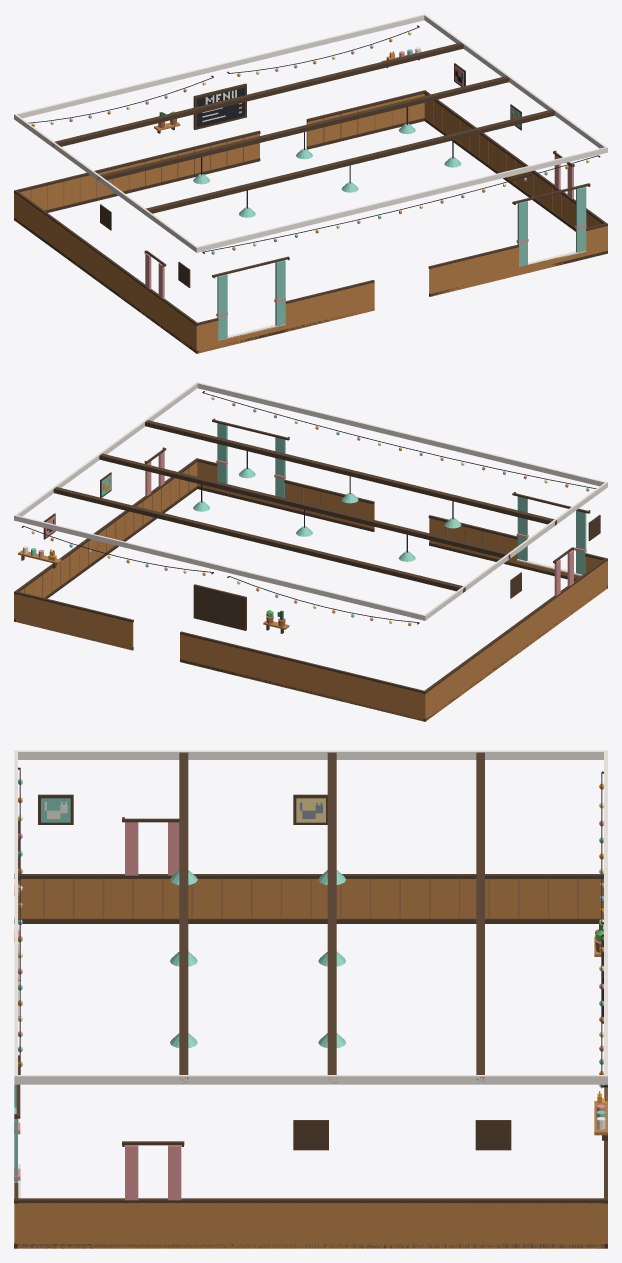
The model's file is CatCafe_Plot_Interior_52x40.glb.
3 renders of one model, top to bottom at view 1: azimuth 30°, elevation 25°; view 2: azimuth 150°, elevation 25°; view 3: azimuth 270°, elevation 25°, orthographic. The views are drawn at different scales.
Parts seen in each view (by area): view 1: CatCafe_Plot_Interior_52x40, CatCafe_Plot_Interior_52x40_StringLights_Bulbs; view 2: CatCafe_Plot_Interior_52x40, CatCafe_Plot_Interior_52x40_StringLights_Bulbs; view 3: CatCafe_Plot_Interior_52x40, CatCafe_Plot_Interior_52x40_StringLights_Bulbs.
Part boxes in pixels (x1,y1,x2,y2): CatCafe_Plot_Interior_52x40: (14,14,607,353); CatCafe_Plot_Interior_52x40_StringLights_Bulbs: (31,31,589,254); CatCafe_Plot_Interior_52x40: (14,382,607,721); CatCafe_Plot_Interior_52x40_StringLights_Bulbs: (31,396,589,626); CatCafe_Plot_Interior_52x40: (14,750,607,1248); CatCafe_Plot_Interior_52x40_StringLights_Bulbs: (18,779,603,1088).
Size of the model in its own units: 52.02 by 12.8 by 40.03.
1 material, 1 textured.
